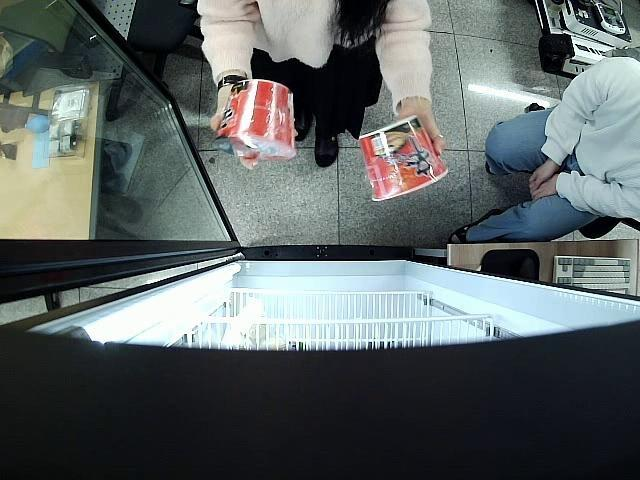01_ShinRamen_L: (357, 118, 448, 201), (218, 78, 298, 159)
